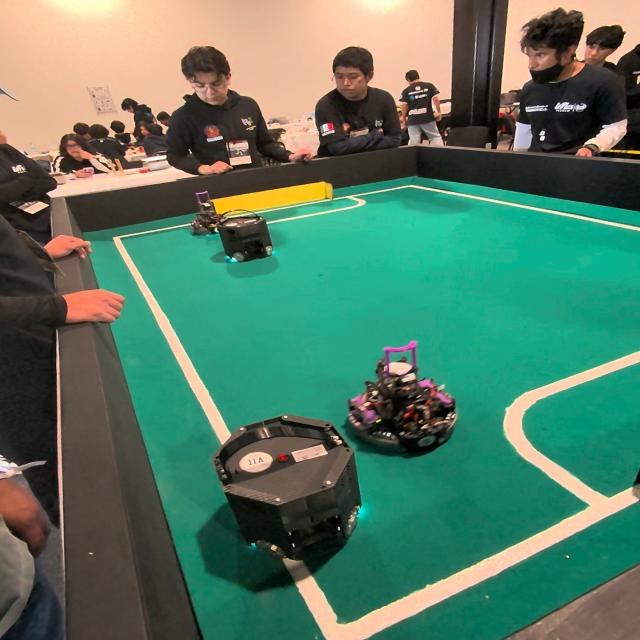Robot: (191, 410, 371, 562), (350, 356, 461, 462), (216, 208, 289, 279), (190, 188, 222, 236)
